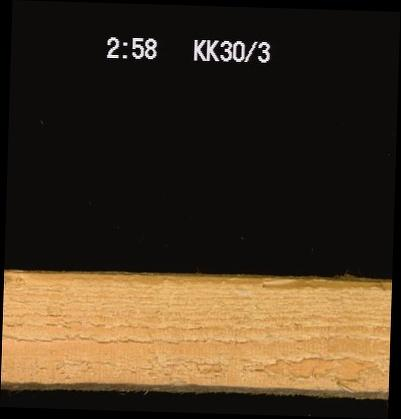wave: (3, 271, 391, 289)
